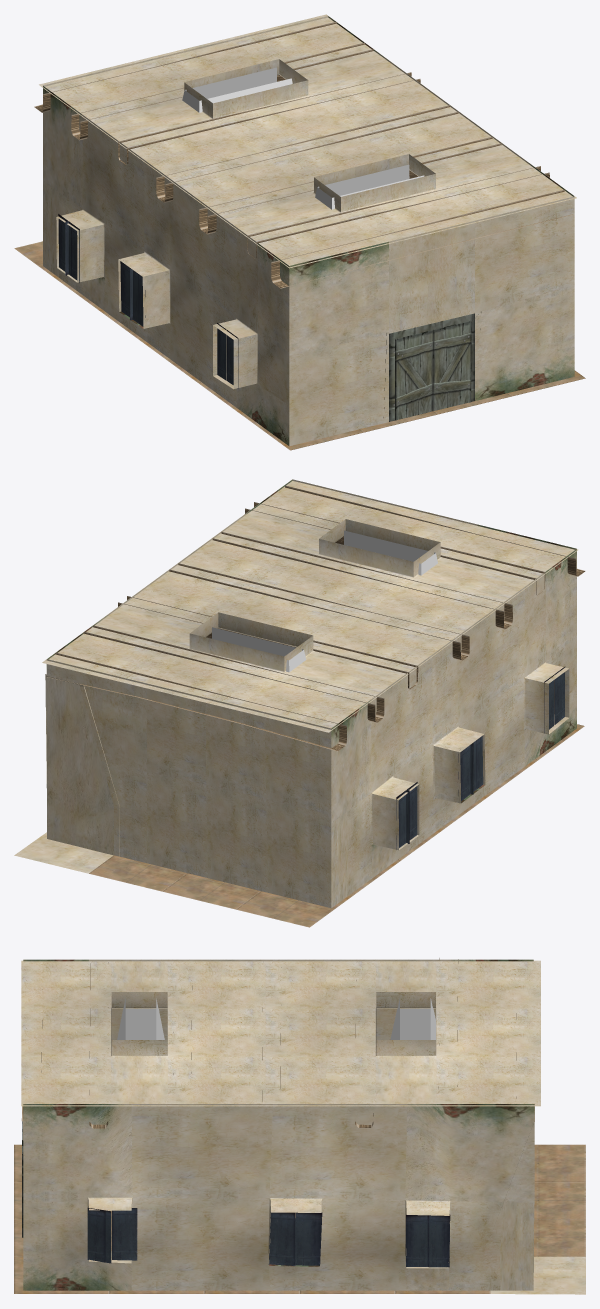
Rendered from interior_spanish_npc.fbx.
The picture shows the model from 3 angles, top to bottom: view 1: azimuth 30°, elevation 25°; view 2: azimuth 150°, elevation 25°; view 3: azimuth 270°, elevation 25°; orthographic projection. The views are drawn at different scales.
Visible parts, largest first — view 1: Ceiling, npc_house_wall5, Wall5, door1, door_1_right, floor_interior, ray9, ray10, door_hole, Beam10, Beam9, Beam13 (+7 smaller); view 2: Ceiling, npc_house_wall, Wall5, npc_house_wall3, floor_interior, FireBoxFloor, ray10, Beam11, Beam8, Beam10, Beam1, ray9 (+7 smaller); view 3: Wall1, Ceiling, floor_interior, Wall5, FireBoxFloor, Shutter12, Shutter2, ray10, ray9, Shutter3, Shutter4, Shutter11 (+1 smaller).
Boxes of the visible parts, bbox=[...] form: Ceiling: bbox=[39, 14, 576, 268]; npc_house_wall5: bbox=[289, 196, 574, 446]; Wall5: bbox=[43, 86, 289, 445]; door1: bbox=[432, 320, 471, 411]; door_1_right: bbox=[395, 330, 433, 420]; floor_interior: bbox=[14, 241, 585, 450]; ray9: bbox=[182, 67, 292, 112]; ray10: bbox=[315, 164, 424, 209]; door_hole: bbox=[389, 313, 474, 421]; Beam10: bbox=[156, 105, 458, 202]; Beam9: bbox=[118, 72, 420, 164]; Beam13: bbox=[271, 189, 573, 288]; Ceiling: bbox=[42, 480, 578, 732]; npc_house_wall: bbox=[47, 659, 331, 907]; Wall5: bbox=[331, 549, 576, 907]; npc_house_wall3: bbox=[45, 674, 113, 855]; floor_interior: bbox=[89, 724, 584, 927]; FireBoxFloor: bbox=[14, 832, 113, 873]; ray10: bbox=[344, 530, 437, 575]; Beam11: bbox=[212, 532, 512, 629]; Beam8: bbox=[84, 625, 384, 722]; Beam10: bbox=[169, 563, 469, 660]; Beam1: bbox=[47, 652, 346, 751]; ray9: bbox=[212, 627, 306, 672]; Wall1: bbox=[23, 1104, 534, 1290]; Ceiling: bbox=[21, 960, 540, 1106]; floor_interior: bbox=[14, 1144, 585, 1293]; Wall5: bbox=[23, 959, 533, 1039]; FireBoxFloor: bbox=[490, 1256, 585, 1294]; Shutter12: bbox=[268, 1212, 295, 1265]; Shutter2: bbox=[295, 1212, 322, 1265]; ray10: bbox=[117, 998, 164, 1039]; ray9: bbox=[390, 998, 435, 1039]; Shutter3: bbox=[112, 1208, 137, 1260]; Shutter4: bbox=[87, 1208, 111, 1263]; Shutter11: bbox=[406, 1214, 428, 1266].
Bounding box in the file's own units: 4776 × 2633 × 6708.
6 materials, 6 textured.
